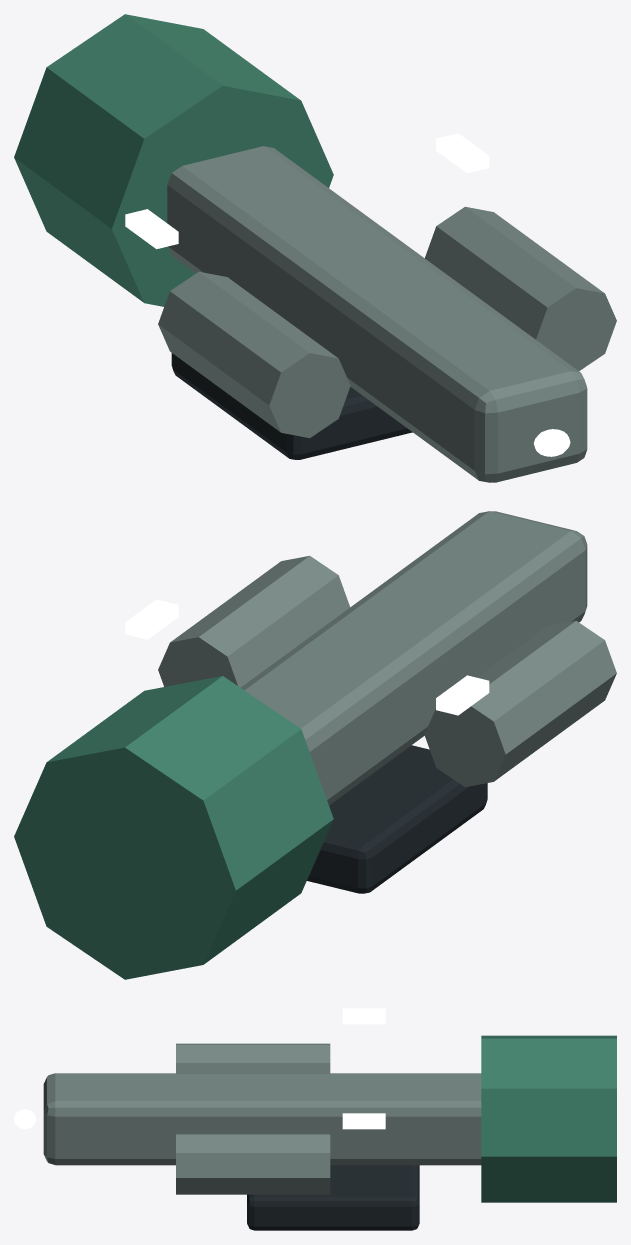
3 renders of one model, top to bottom at view 1: azimuth 30°, elevation 25°; view 2: azimuth 150°, elevation 25°; view 3: azimuth 270°, elevation 25°, orthographic. The views are drawn at different scales.
Parts seen in each view (by area): view 1: RIMWARD_HULL, RIMWARD_EMISSIVE, RIMWARD_ENGINE_GLOW; view 2: RIMWARD_HULL, RIMWARD_EMISSIVE; view 3: RIMWARD_HULL, RIMWARD_EMISSIVE, RIMWARD_ENGINE_GLOW.
Boxes of the visible parts, <box> form: RIMWARD_HULL: <box>14,14,616,482</box>; RIMWARD_EMISSIVE: <box>125,133,489,249</box>; RIMWARD_ENGINE_GLOW: <box>533,429,570,456</box>; RIMWARD_HULL: <box>14,511,616,979</box>; RIMWARD_EMISSIVE: <box>125,599,489,715</box>; RIMWARD_HULL: <box>43,1035,616,1230</box>; RIMWARD_EMISSIVE: <box>342,1008,385,1129</box>; RIMWARD_ENGINE_GLOW: <box>14,1109,35,1128</box>.
Size of the model in its own units: 4.96 by 3.17 by 10.76.
